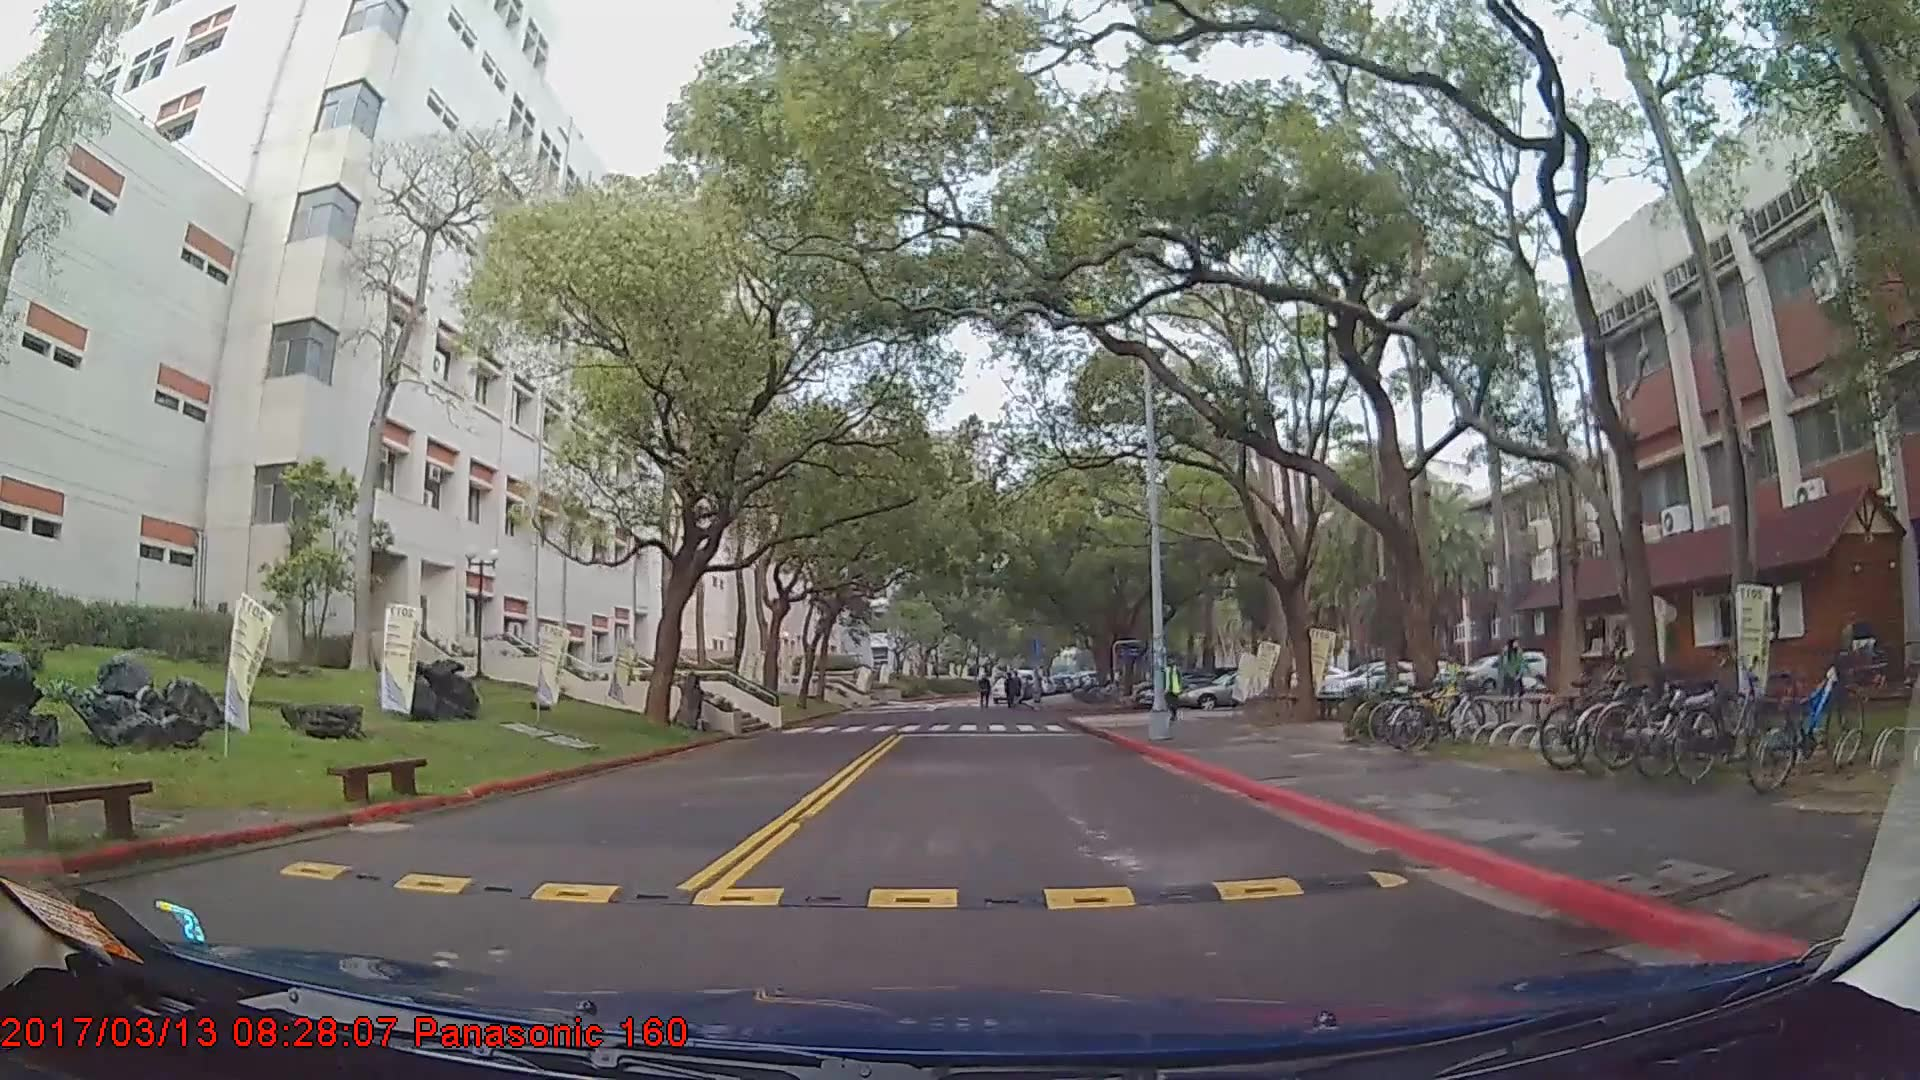vehicle: (1317, 658, 1425, 704), (1179, 667, 1294, 707)
